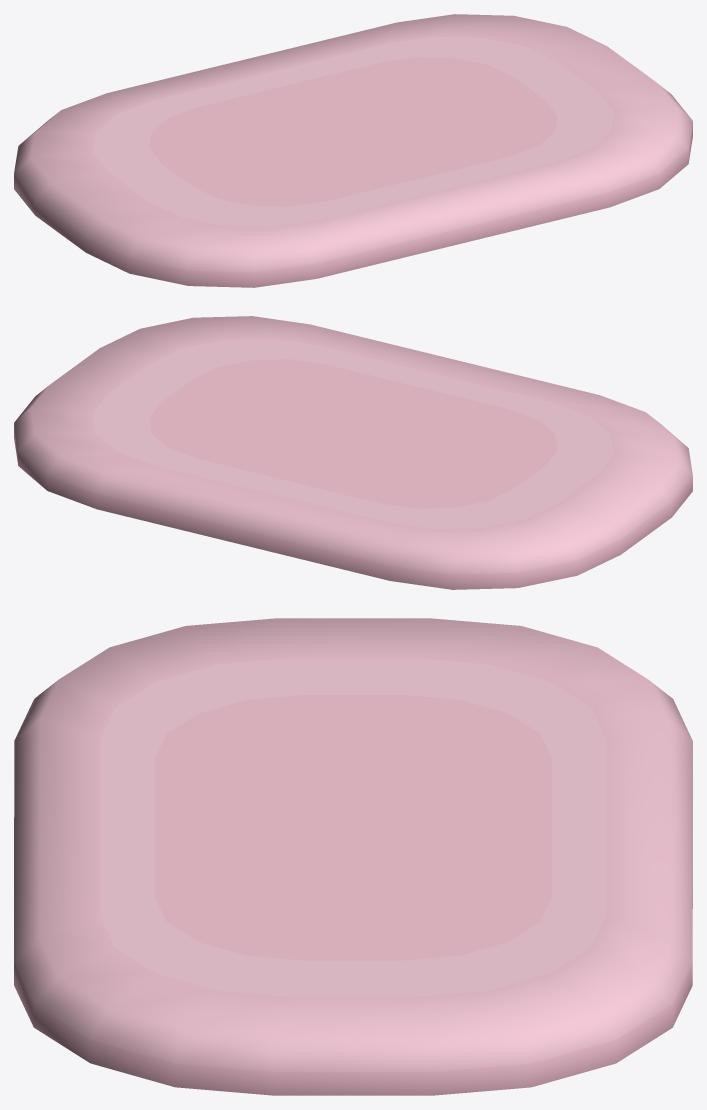
The model's file is bath-mat.glb.
3 views of the same model, one above another, from view 1: azimuth 30°, elevation 25°; view 2: azimuth 150°, elevation 25°; view 3: azimuth 270°, elevation 25° (orthographic). The views are drawn at different scales.
Visible parts, largest first — view 1: mat; view 2: mat; view 3: mat.
Part boxes in pixels (x1=…): mat: x1=14, y1=14, x2=692, y2=287; mat: x1=14, y1=316, x2=692, y2=589; mat: x1=14, y1=618, x2=692, y2=1095.
Bounding box in the file's own units: 2 × 0.1001 × 1.3.
Materials: 1 (1 with a texture image).
